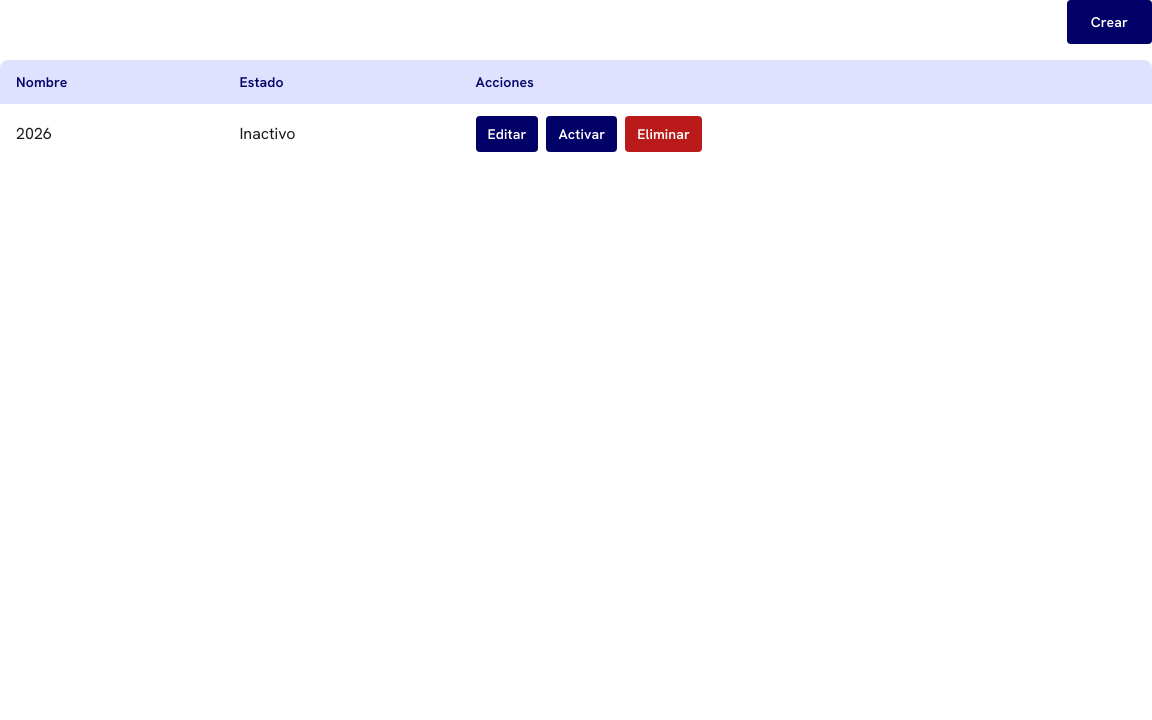
Scenario: PanelAniosEscolares › [11.5] Eliminar con ENTIDAD_CON_DEPENDIENTES muestra el mensaje interpolado con la relación
Expected: the text "2026" is shown, [0, 104, 223, 164]
Click the button "Eliminar". click: (664, 134)
box: [625, 116, 702, 152]
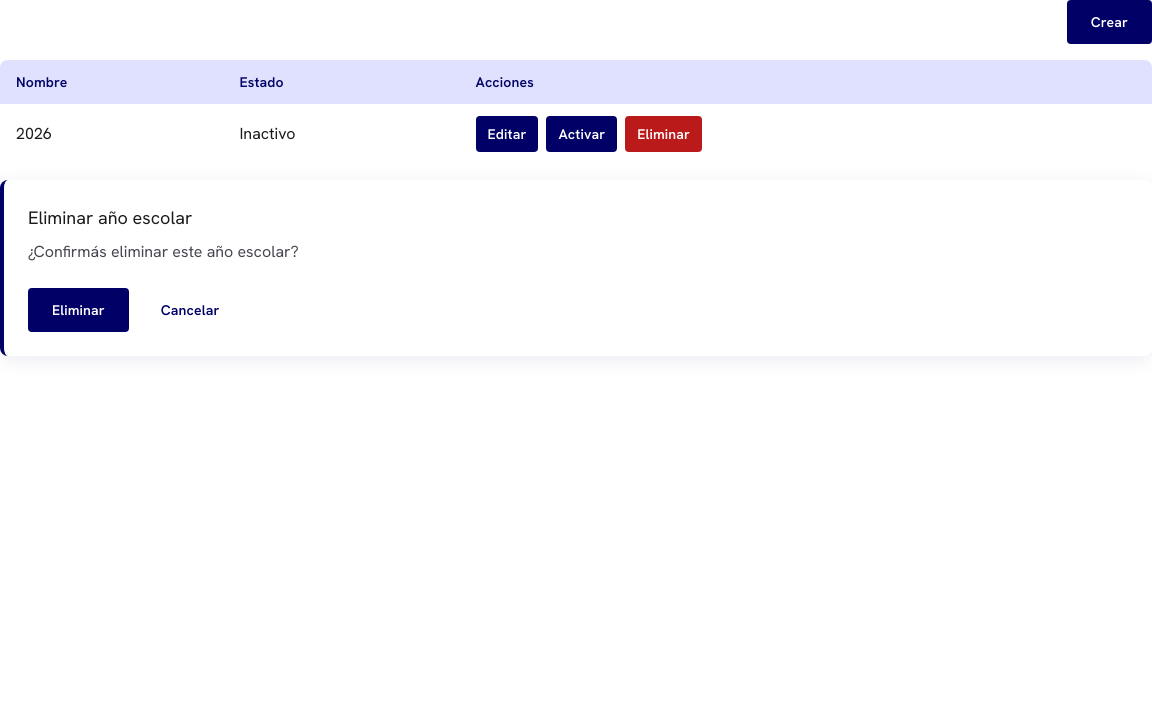
Click the button "Eliminar" below "¿Confirmás eliminar este año escolar?". click: (78, 310)
box: [28, 288, 129, 332]
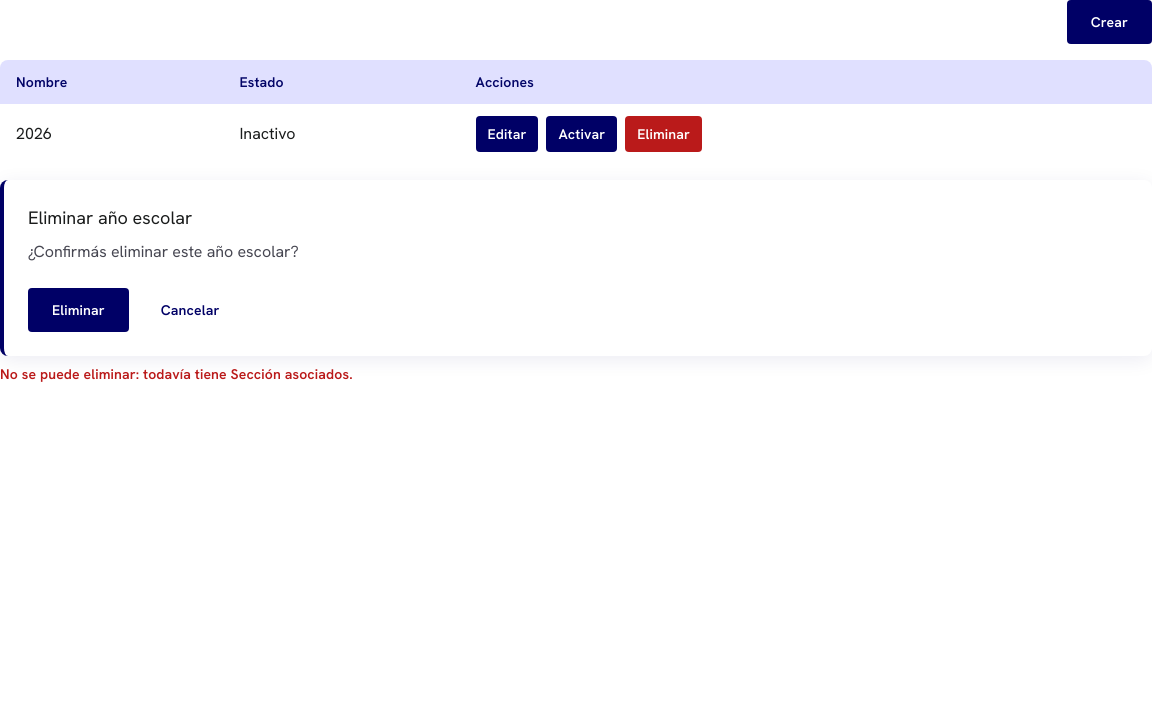
Expected: the message reads "No se puede eliminar: todavía tiene Sección asociados.", [0, 365, 353, 383]
